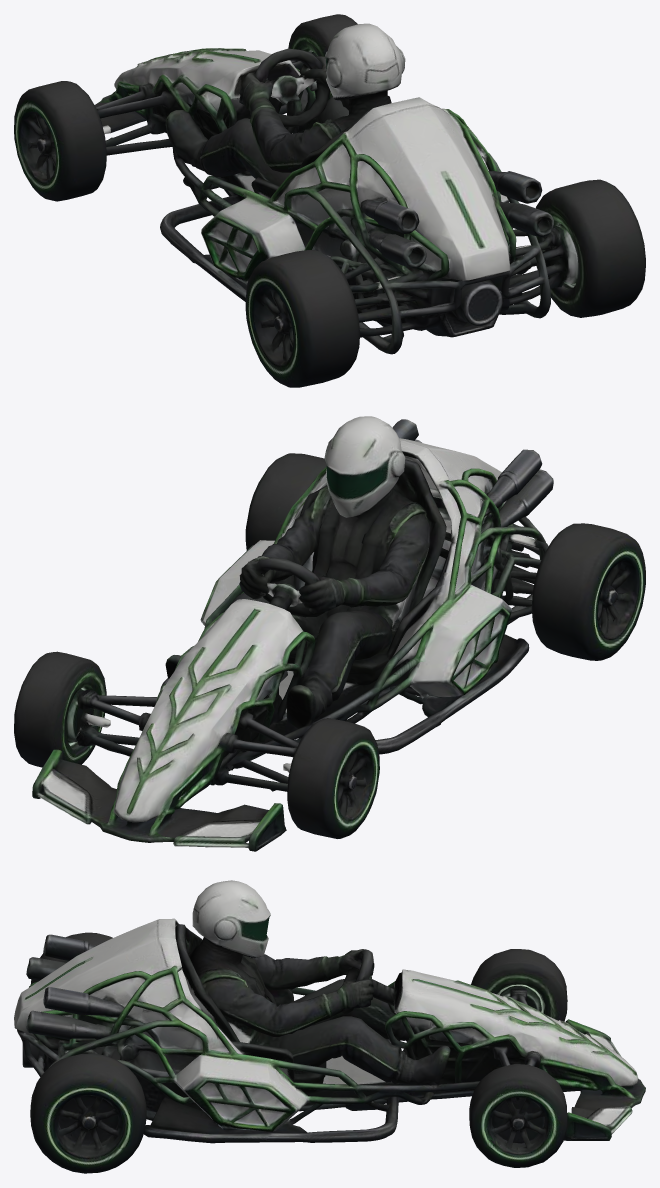
The model's file is gaia-final.glb.
The picture shows the model from 3 angles, top to bottom: view 1: azimuth 30°, elevation 25°; view 2: azimuth 150°, elevation 25°; view 3: azimuth 270°, elevation 25°; orthographic projection. The views are drawn at different scales.
Visible parts, largest first — view 1: chassis, wheel-rl, wheel-rr, wheel-fl, wheel-fr; view 2: chassis, wheel-rl, wheel-fl, wheel-fr, wheel-rr; view 3: chassis, wheel-rr, wheel-fr, wheel-fl, wheel-rl.
Part boxes in pixels (left/top/right/bottom): chassis: left=94, top=23, right=563, bottom=354; wheel-rl: left=245, top=250, right=359, bottom=387; wheel-rr: left=536, top=179, right=645, bottom=317; wheel-fl: left=14, top=81, right=106, bottom=201; wheel-fr: left=288, top=14, right=357, bottom=100; chassis: left=32, top=416, right=553, bottom=851; wheel-rl: left=531, top=523, right=645, bottom=660; wheel-fl: left=287, top=718, right=379, bottom=838; wheel-fr: left=14, top=651, right=106, bottom=767; wheel-rr: left=245, top=453, right=326, bottom=550; chassis: left=14, top=880, right=645, bottom=1143; wheel-rr: left=30, top=1053, right=146, bottom=1173; wheel-fr: left=469, top=1064, right=567, bottom=1167; wheel-fl: left=471, top=949, right=567, bottom=1021; wheel-rl: left=30, top=932, right=112, bottom=984.
Size of the model in its own units: 2.46 by 1.75 by 4.5.
Materials: 1 (1 with a texture image).
